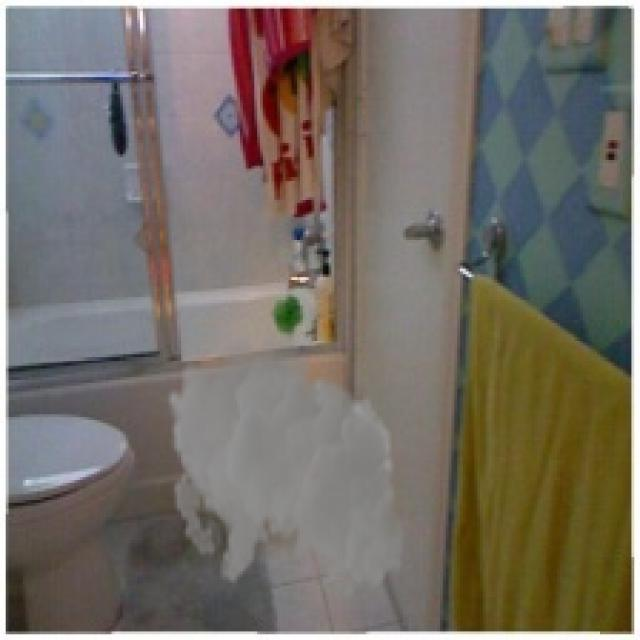Smoke: (166, 323, 406, 600)
